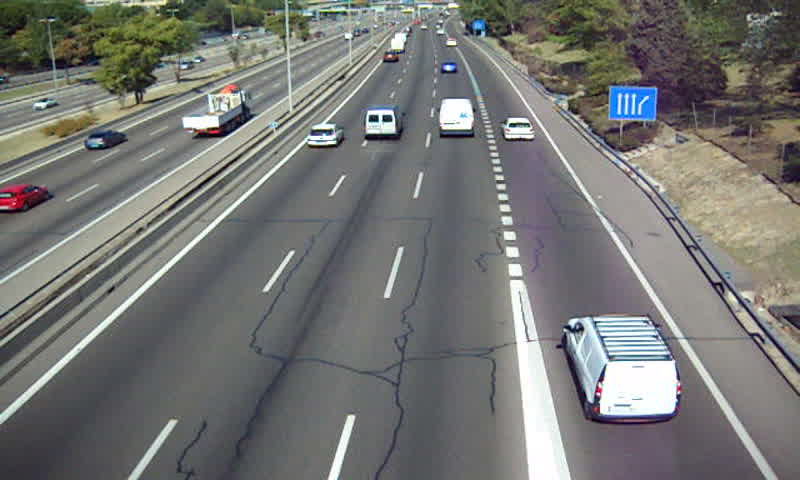car: (307, 122, 344, 148), (501, 117, 535, 141), (440, 61, 458, 76)
van: (566, 315, 681, 424), (365, 103, 406, 140), (440, 98, 475, 136)
